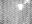person: (24, 0, 29, 4), (19, 5, 23, 9)
